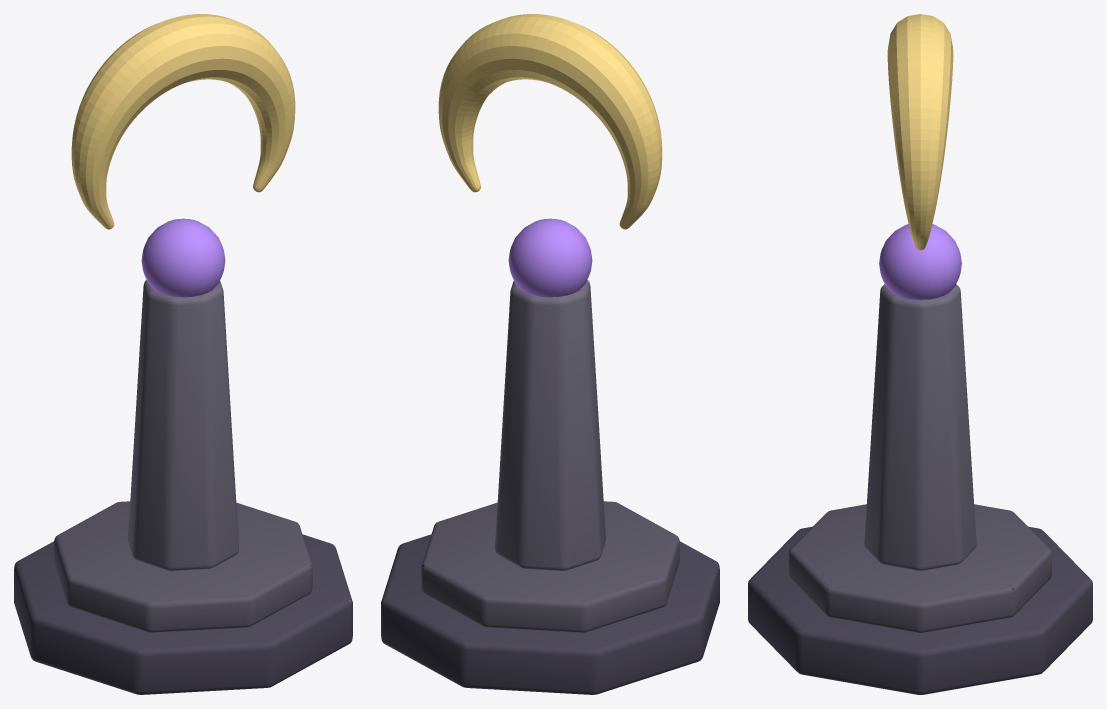
The model's file is RebirthStatue.fbx.
3 views of the same model, side by side, from view 1: azimuth 30°, elevation 25°; view 2: azimuth 150°, elevation 25°; view 3: azimuth 270°, elevation 25° (orthographic).
Visible parts, largest first — view 1: RebirthStatue; view 2: RebirthStatue; view 3: RebirthStatue.
Boxes of the visible parts, left/top/right/bottom form: RebirthStatue: left=14, top=14, right=352, bottom=694; RebirthStatue: left=381, top=14, right=719, bottom=694; RebirthStatue: left=748, top=14, right=1092, bottom=694.
Size of the model in its own units: 8.32 by 15.93 by 8.32.
1 material, 1 textured.
